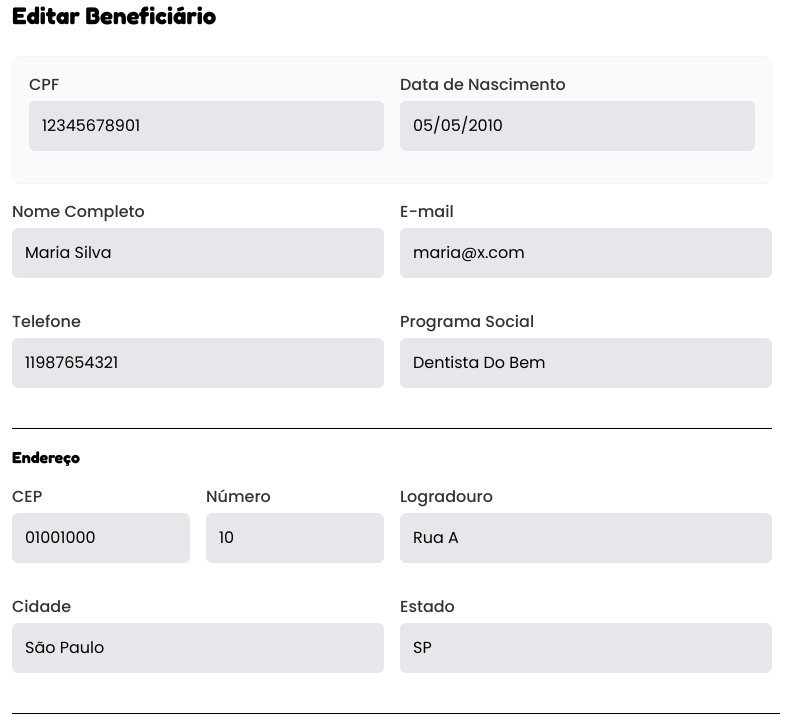
it: UpdateBeneficiario (editar beneficiário) › erro do back vira notificação
Replace the text in the field labelled "E-mail" with "novo@x.com" at (586, 253), box [400,228,772,278]
(page scrolled)
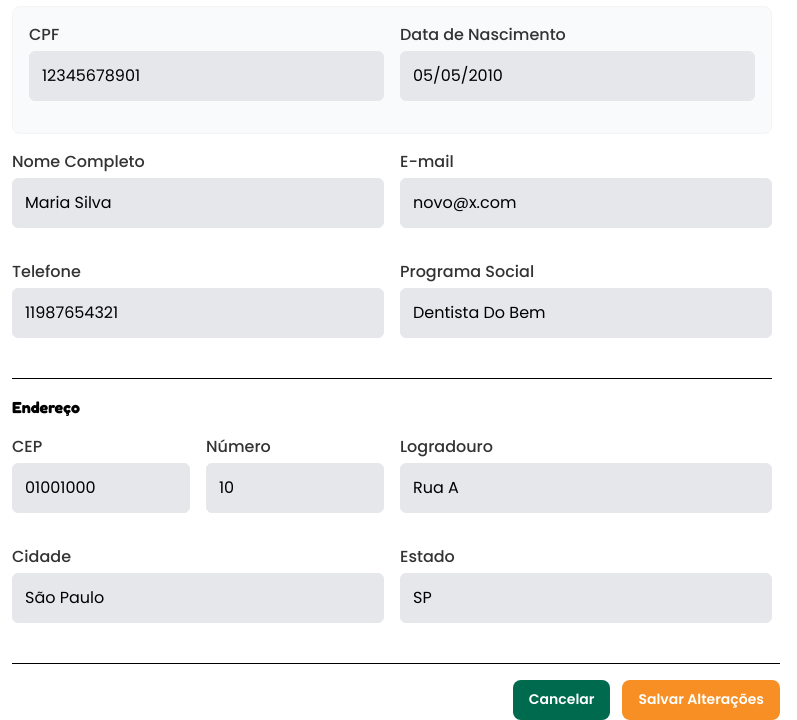
Click the button "Salvar Alterações" at (701, 700), box [622,680,780,719]
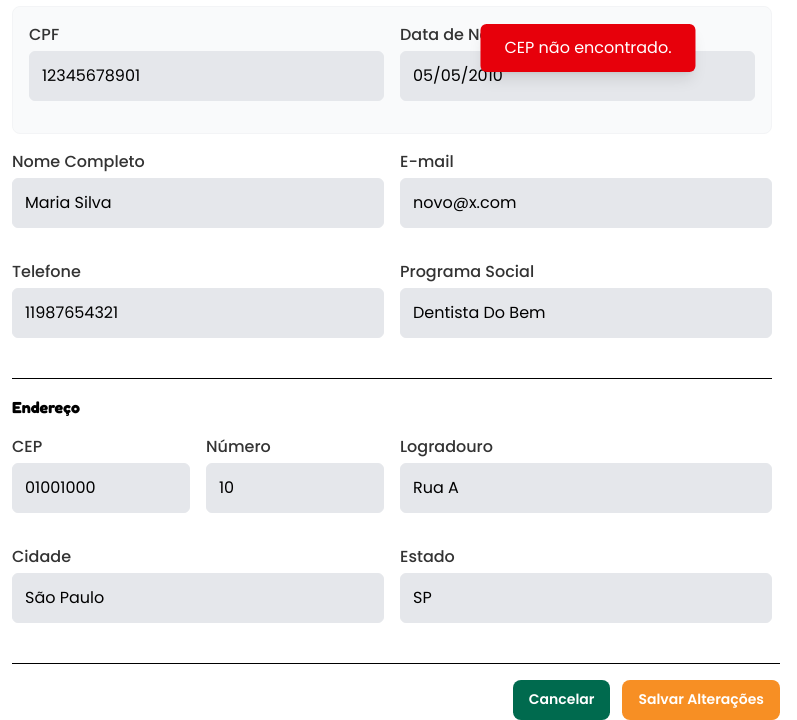
Expected: the text "CEP não encontrado." is shown, [480,24,696,72]
